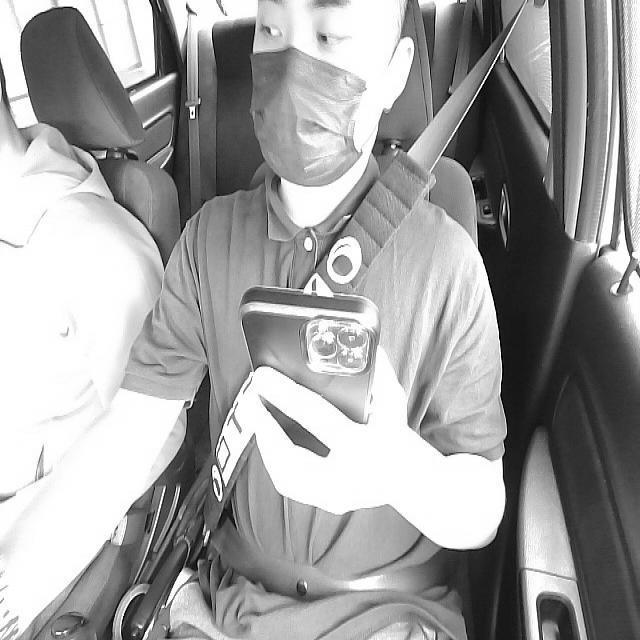phone: (238, 284, 380, 463)
